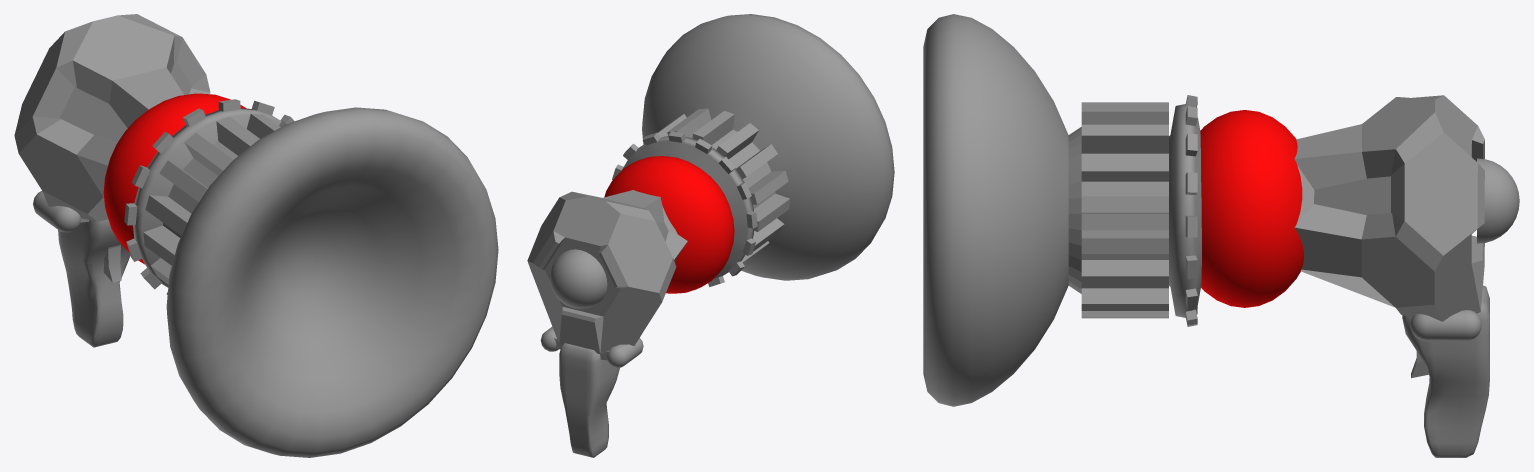
File: Sonic Pulse Gun.FBX
The picture shows the model from 3 angles, left to right: view 1: azimuth 30°, elevation 25°; view 2: azimuth 150°, elevation 25°; view 3: azimuth 270°, elevation 25°; orthographic projection. The views are drawn at different scales.
Visible parts, largest first — view 1: Sphere001; view 2: Sphere001; view 3: Sphere001.
Boxes of the visible parts, x1=… form: Sphere001: x1=14, y1=14, x2=498, y2=457; Sphere001: x1=527, y1=14, x2=894, y2=457; Sphere001: x1=923, y1=14, x2=1519, y2=457.
Size of the model in its own units: 12.01 by 14.15 by 18.22.
